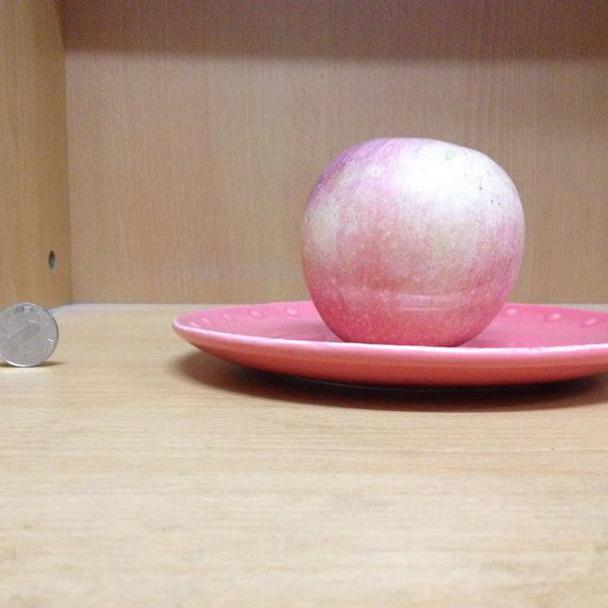apple: (300, 136, 525, 347)
